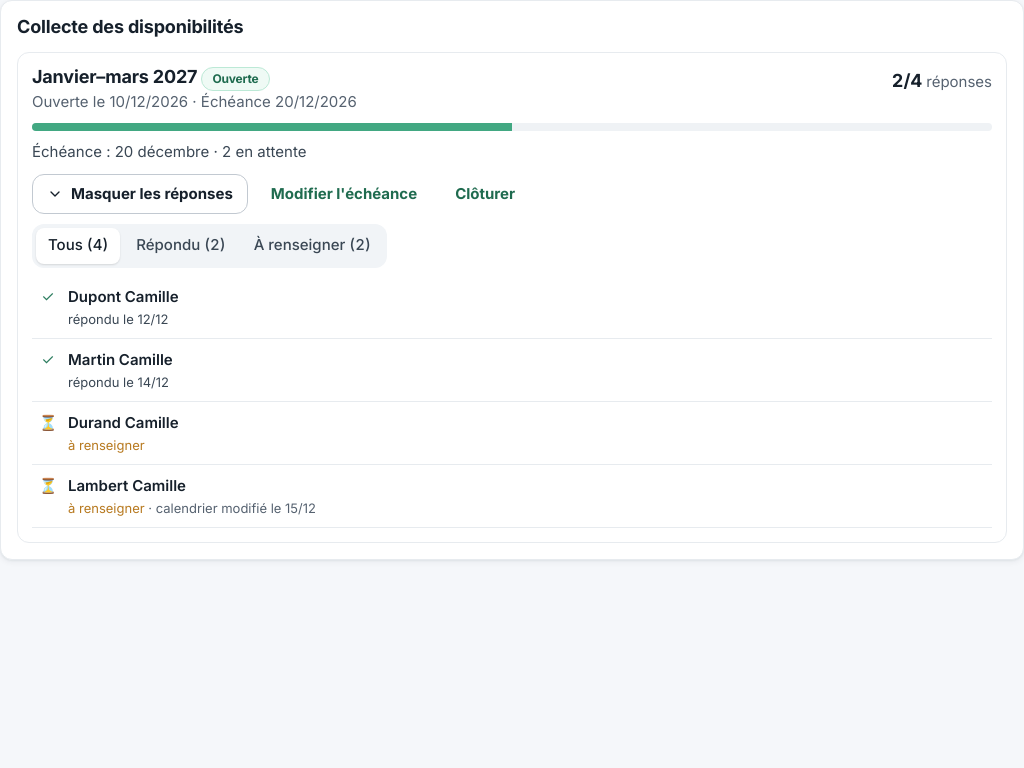
Test: AvailabilityCollectionsPanel — for someone who manages it › filters the list: Tous, Répondu, À renseigner
Expected: the text "Dupont Camille" is shown, [68,287,179,306]
What coordinates should you click on to do the following:
click the button "À renseigner (2)"
I would click on:
 (312, 246)
Its box is [242,228,383,264].
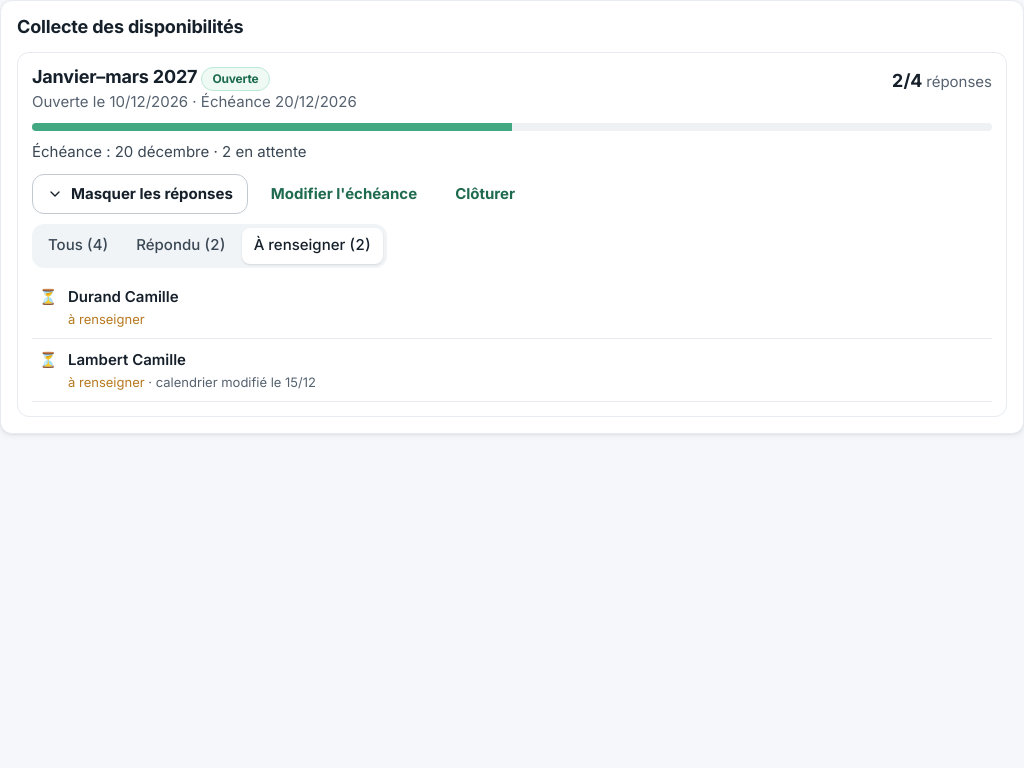
Expected: the text "Durand Camille" is shown, [68,287,179,306]
Now the text "Dupont Camille" is gone
What coordinates should you click on to do the following:
click the button "Répondu (2)"
I would click on:
 (181, 246)
Its box is [124,228,238,264].
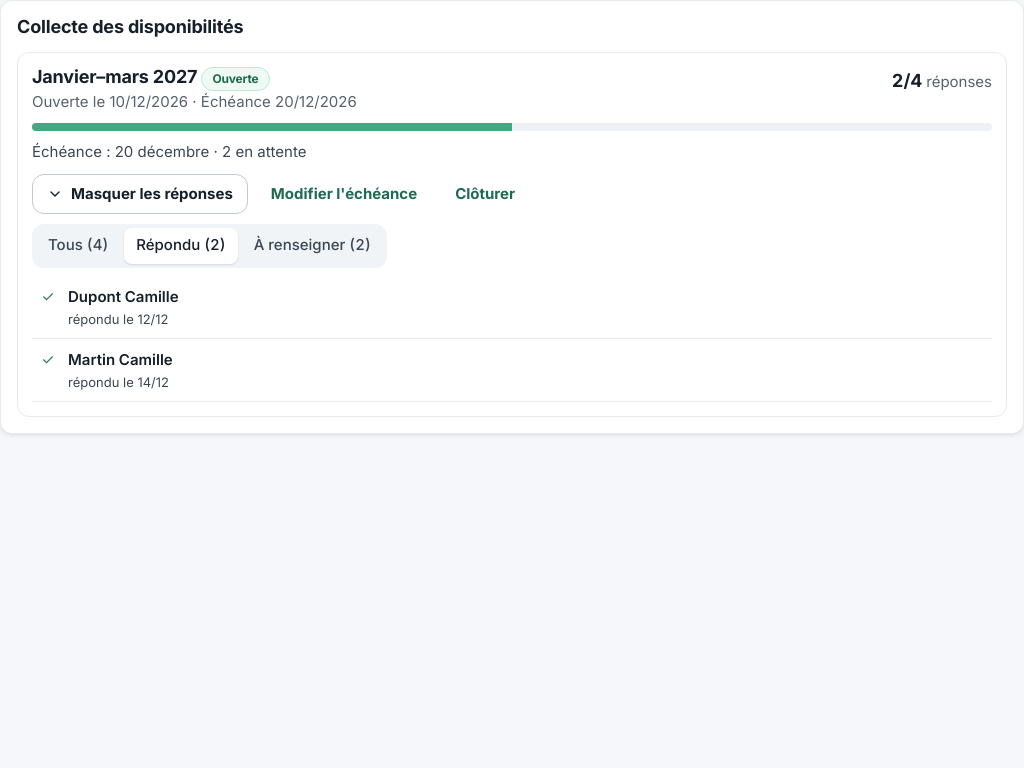
Now the text "Dupont Camille" is shown, box [68,287,179,306]
Now the text "Martin Camille" is shown, box [68,350,173,369]
Now the text "Durand Camille" is gone
What coordinates should you click on to do the following:
click the button "Tous (4)"
I would click on:
 (78, 246)
Its box is [36,228,120,264].
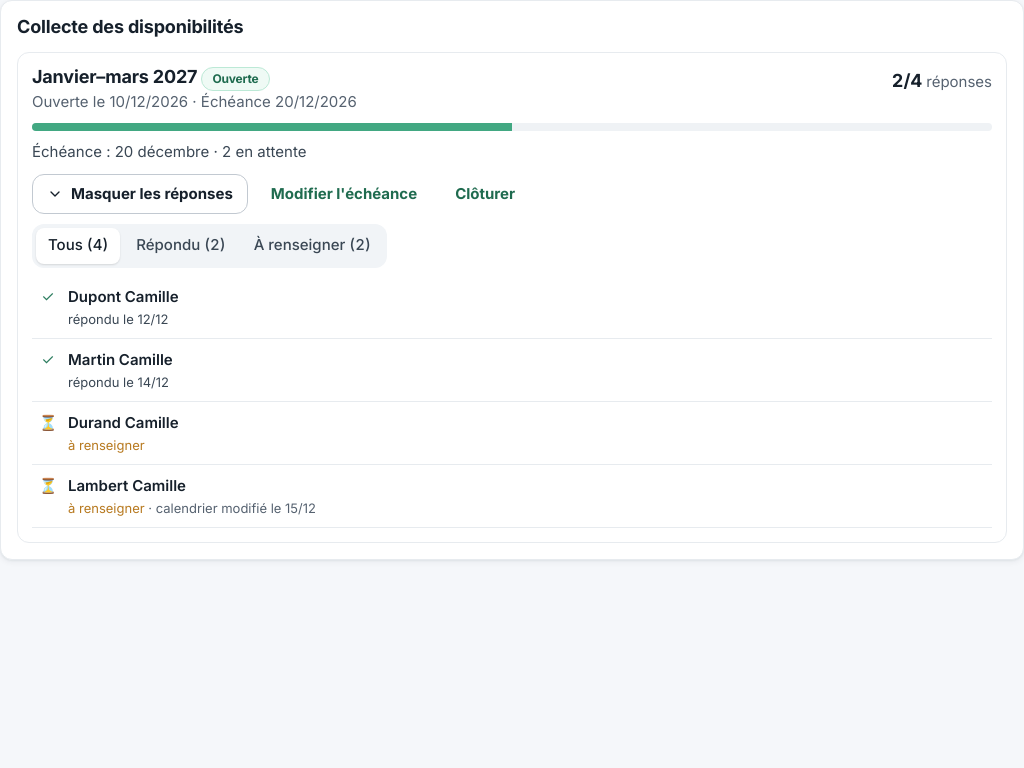
Now the text "Dupont Camille" is shown, box [68,287,179,306]
Now the text "Durand Camille" is shown, box [68,413,179,432]
